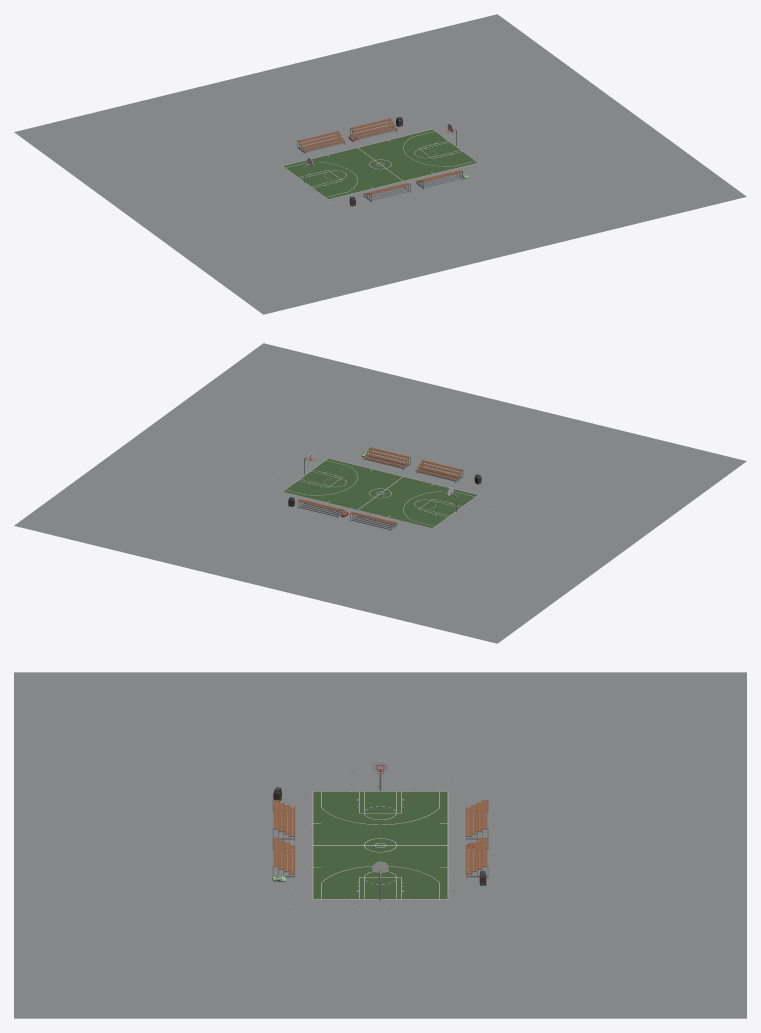
The model's file is 篮球场.glb.
3 views of the same model, one above another, from view 1: azimuth 30°, elevation 25°; view 2: azimuth 150°, elevation 25°; view 3: azimuth 270°, elevation 25° (orthographic). The views are drawn at different scales.
Visible parts, largest first — view 1: Basketball Terrain_19; view 2: Basketball Terrain_19; view 3: Basketball Terrain_19.
Boxes of the visible parts, x1,y1,x2,y2 form: Basketball Terrain_19: (14, 14, 746, 314); Basketball Terrain_19: (14, 343, 746, 643); Basketball Terrain_19: (14, 672, 746, 1018).
Bounding box in the file's own units: 81.21 × 3.81 × 72.59.
